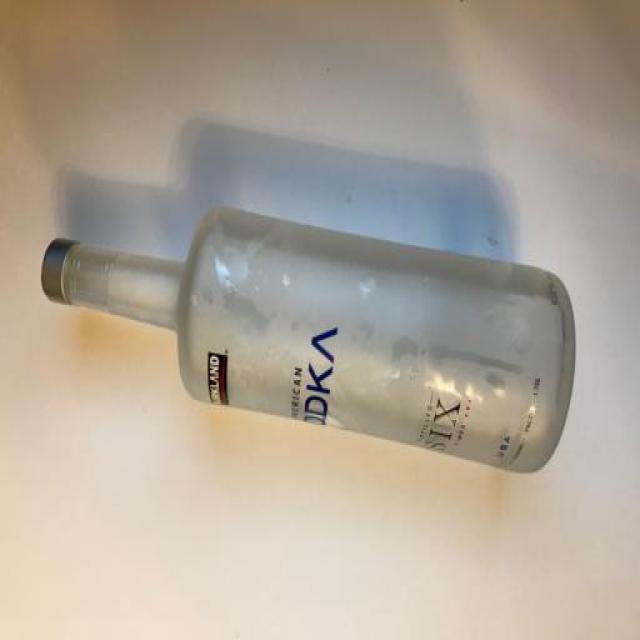glass: (14, 181, 602, 496)
